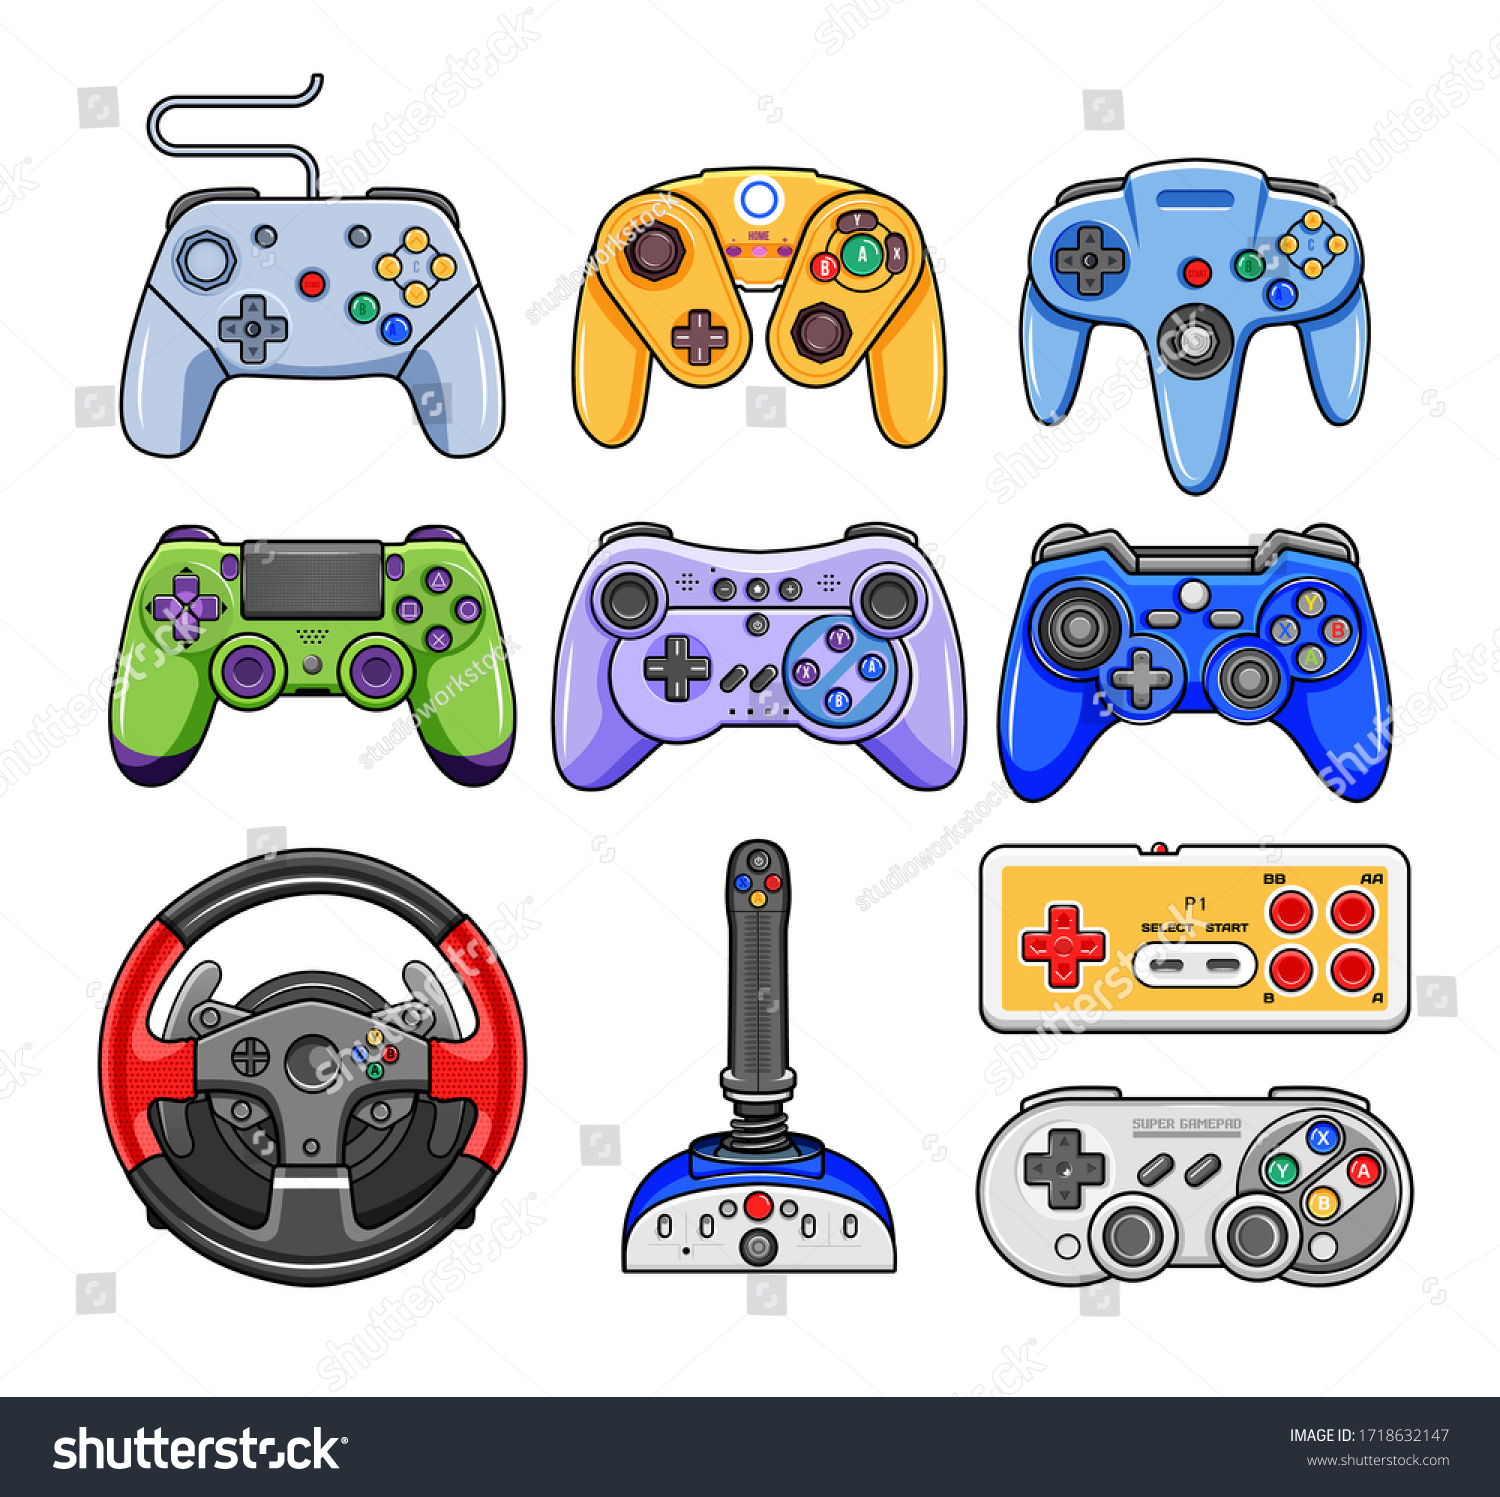controller: (1017, 158, 1375, 498), (548, 521, 971, 792), (995, 521, 1394, 803), (108, 524, 517, 795), (568, 163, 950, 450), (126, 191, 509, 455), (978, 1087, 1418, 1291), (975, 843, 1411, 1031)
